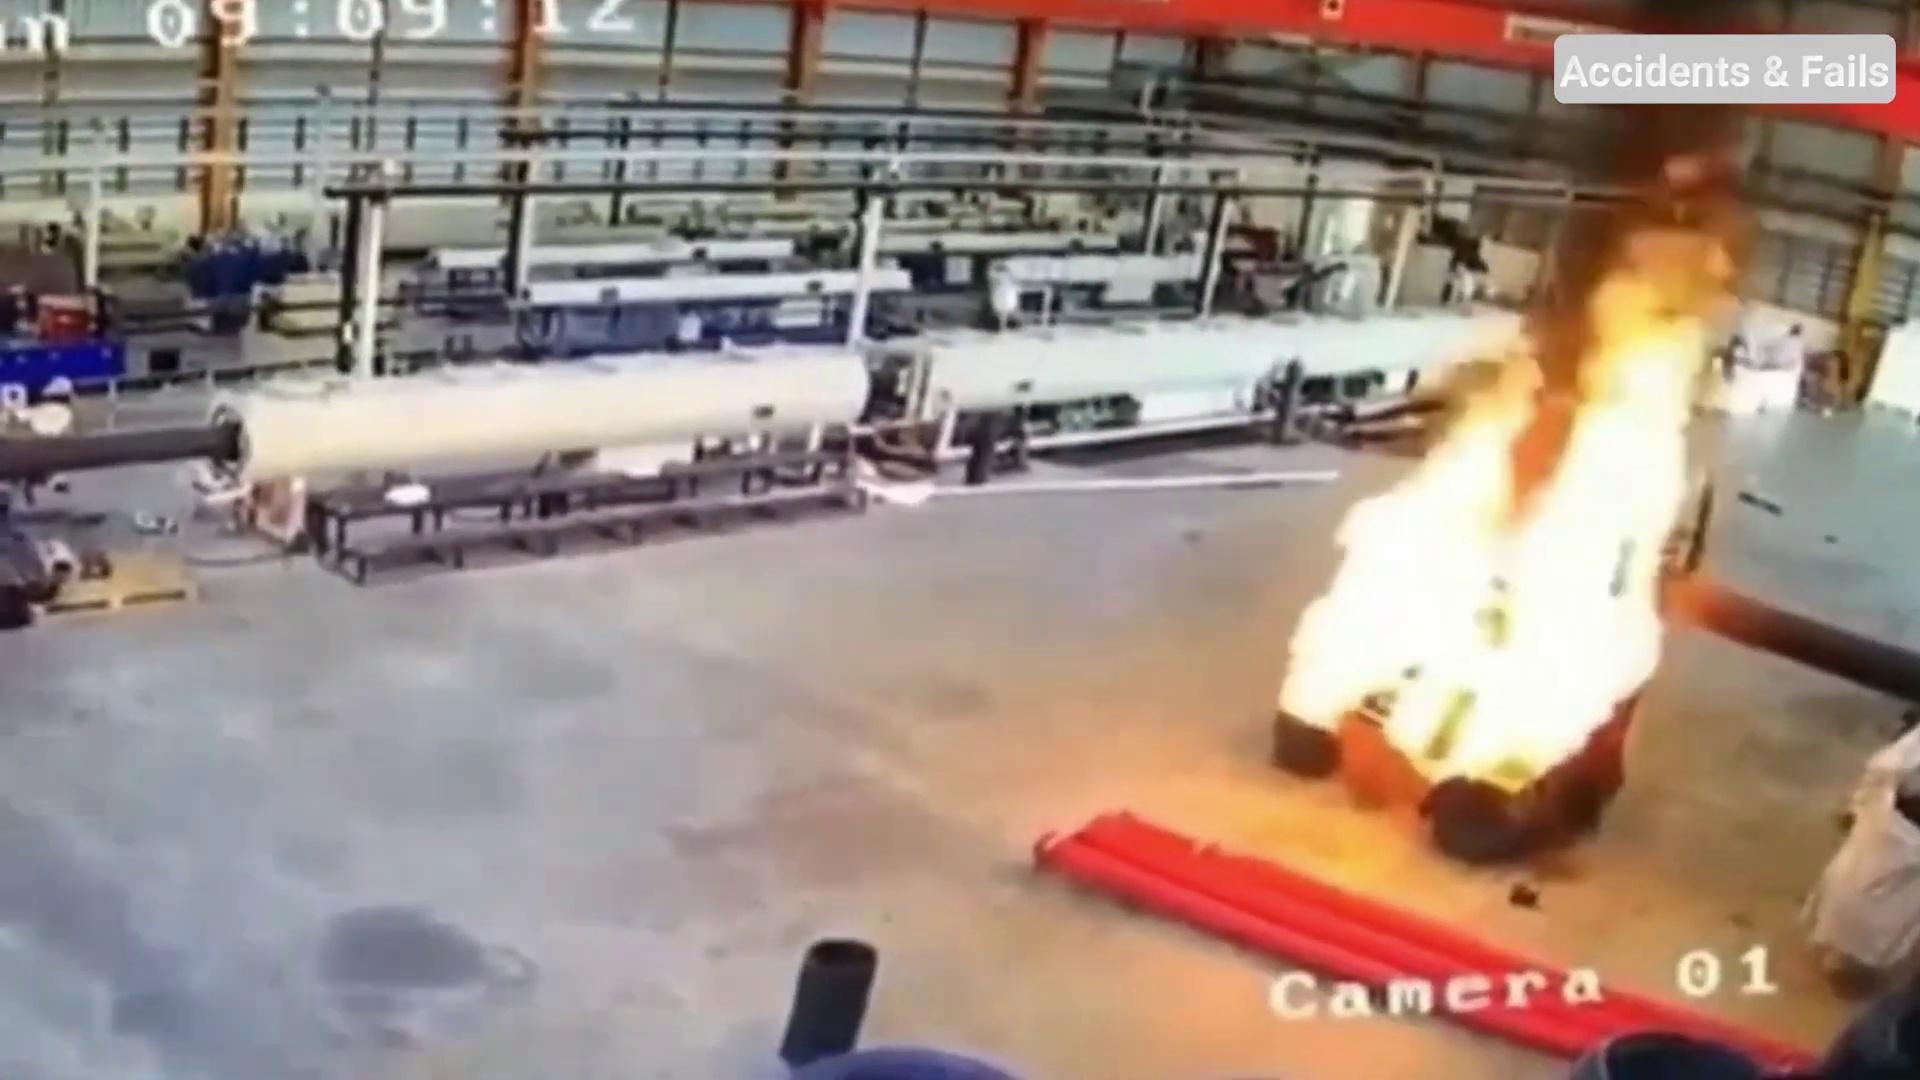fire: (1193, 108, 1727, 902)
